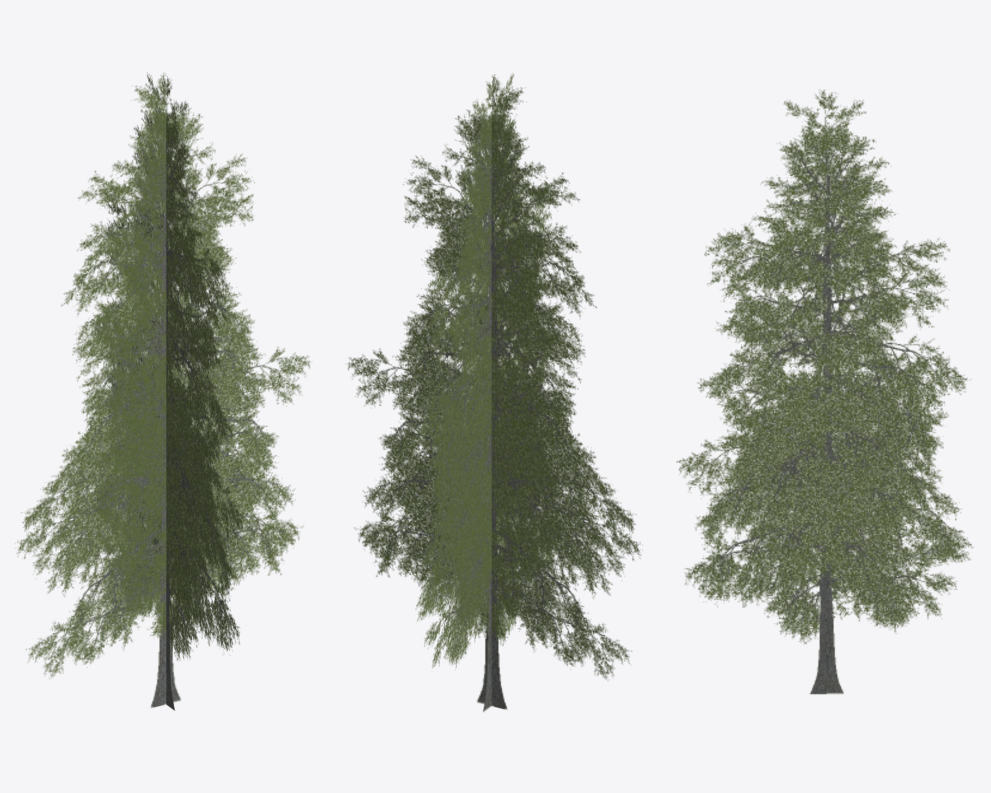
The model's file is TaxodiumDistichum.glb.
3 renders of one model, left to right at view 1: azimuth 30°, elevation 25°; view 2: azimuth 150°, elevation 25°; view 3: azimuth 270°, elevation 25°, orthographic. The views are drawn at different scales.
Visible parts, largest first — view 1: mesh__mat_billboard_10; view 2: mesh__mat_billboard_10; view 3: mesh__mat_billboard_10.
Part boxes in pixels (<box>): mesh__mat_billboard_10: <box>15,72,309,710</box>; mesh__mat_billboard_10: <box>348,73,640,712</box>; mesh__mat_billboard_10: <box>676,90,973,694</box>.
Bounding box in the file's own units: 14.37 × 29.66 × 13.1.
1 material, 1 textured.
